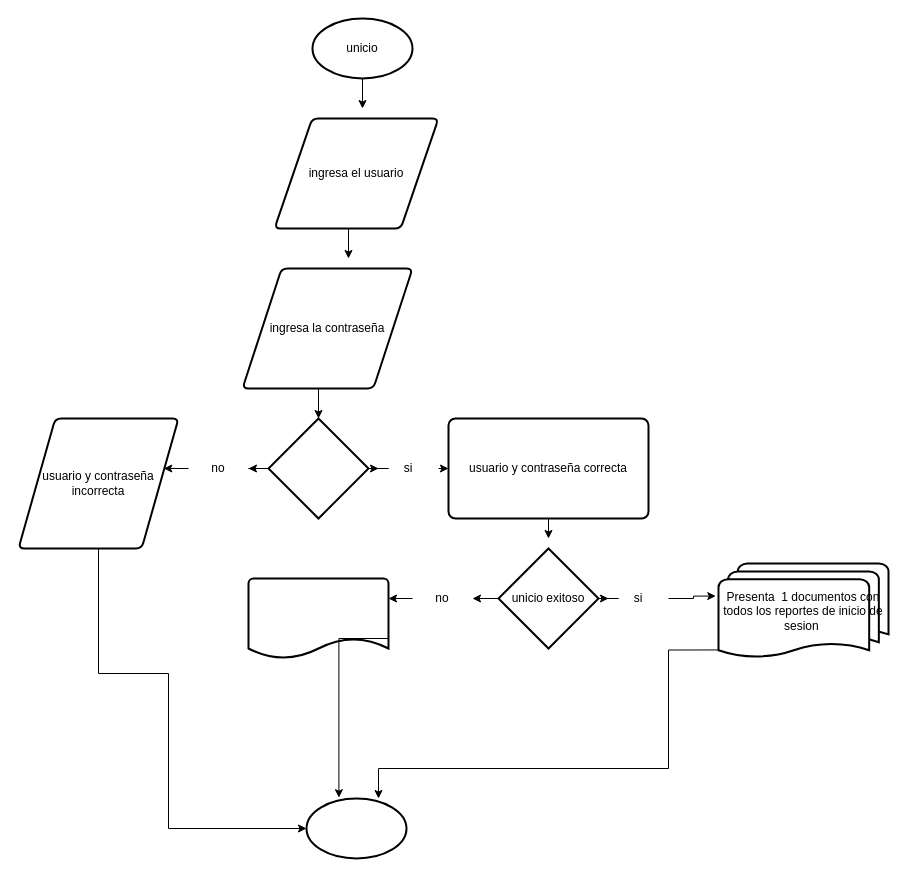
This 906x876 diagram has some shape labels left out. Each missing label, with the box of its shape:
Fin: (305, 797, 407, 859)
imprimir 1 reporte: (247, 577, 389, 659)
usuario y contraseña es correcta?: (267, 417, 369, 519)
